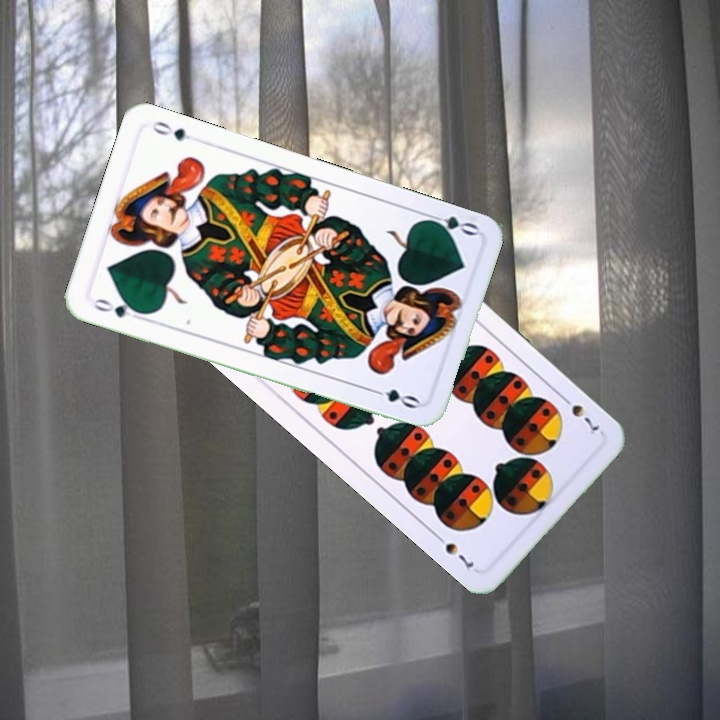GO: (420, 209, 480, 240), (87, 294, 146, 320)
S7: (556, 391, 601, 437)
